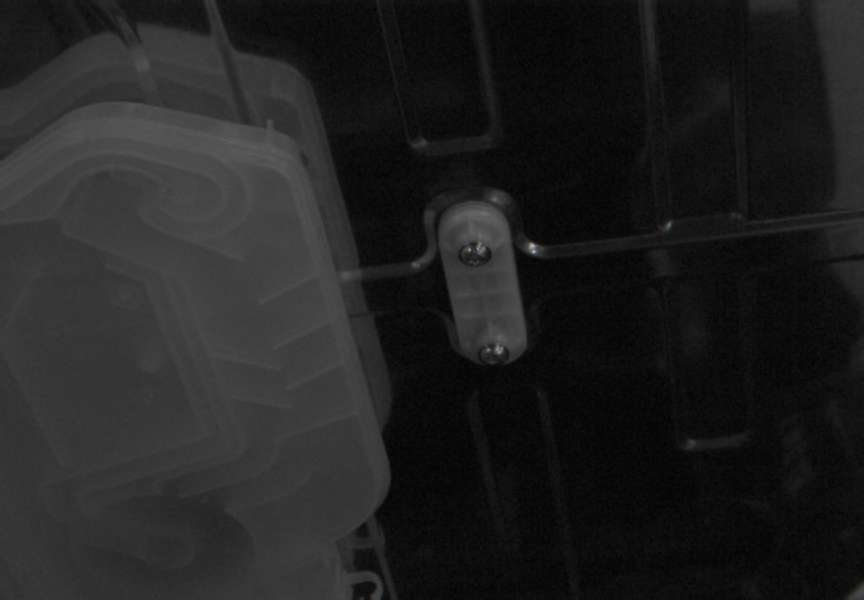screw: (459, 242, 492, 267), (478, 343, 510, 366)
